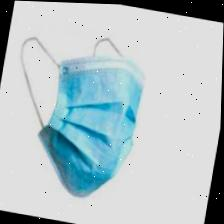mask: (0, 23, 152, 206)
